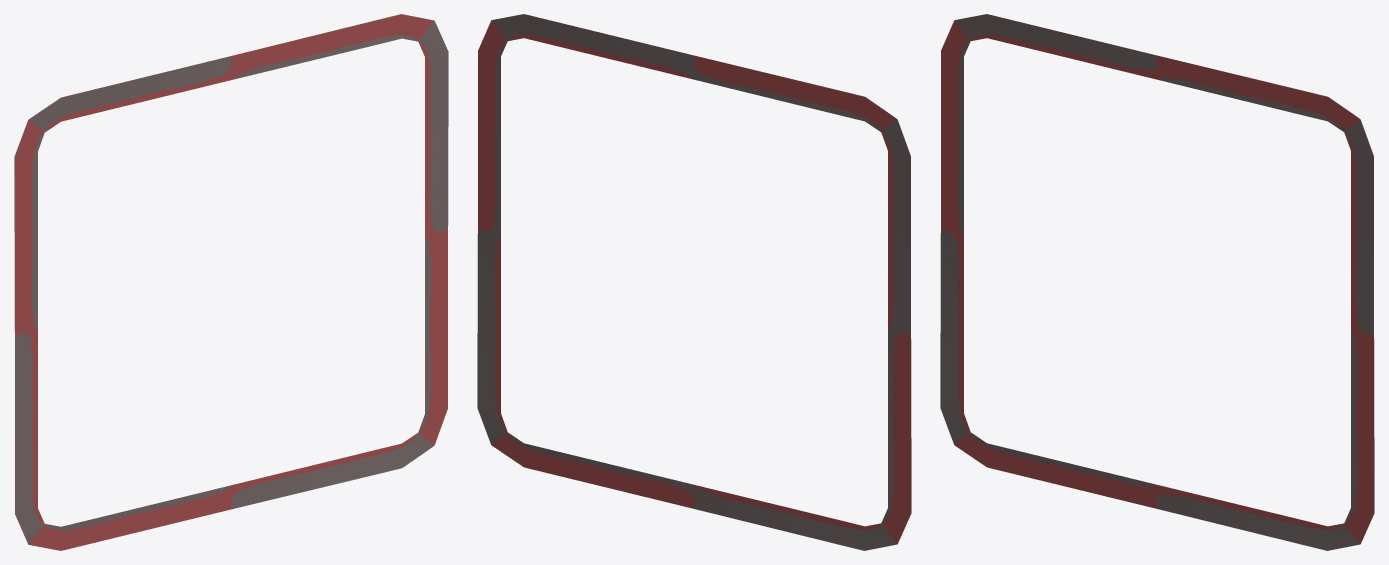
File: warping-rhs-150-150-8-16-3-456.glb
3 renders of one model, left to right at view 1: azimuth 30°, elevation 25°; view 2: azimuth 150°, elevation 25°; view 3: azimuth 330°, elevation 25°, orthographic.
Visible parts, largest first — view 1: undeformed cross-section, cross-section with warping; view 2: undeformed cross-section, cross-section with warping; view 3: undeformed cross-section, cross-section with warping.
Boxes of the visible parts, left/top/right/bottom form: undeformed cross-section: left=15, top=14, right=447, bottom=550; cross-section with warping: left=14, top=14, right=448, bottom=544; undeformed cross-section: left=478, top=14, right=910, bottom=549; cross-section with warping: left=477, top=14, right=911, bottom=550; undeformed cross-section: left=941, top=14, right=1373, bottom=548; cross-section with warping: left=940, top=14, right=1374, bottom=550.
Bounding box in the file's own units: 0.15 × 0.15 × 0.000644.
